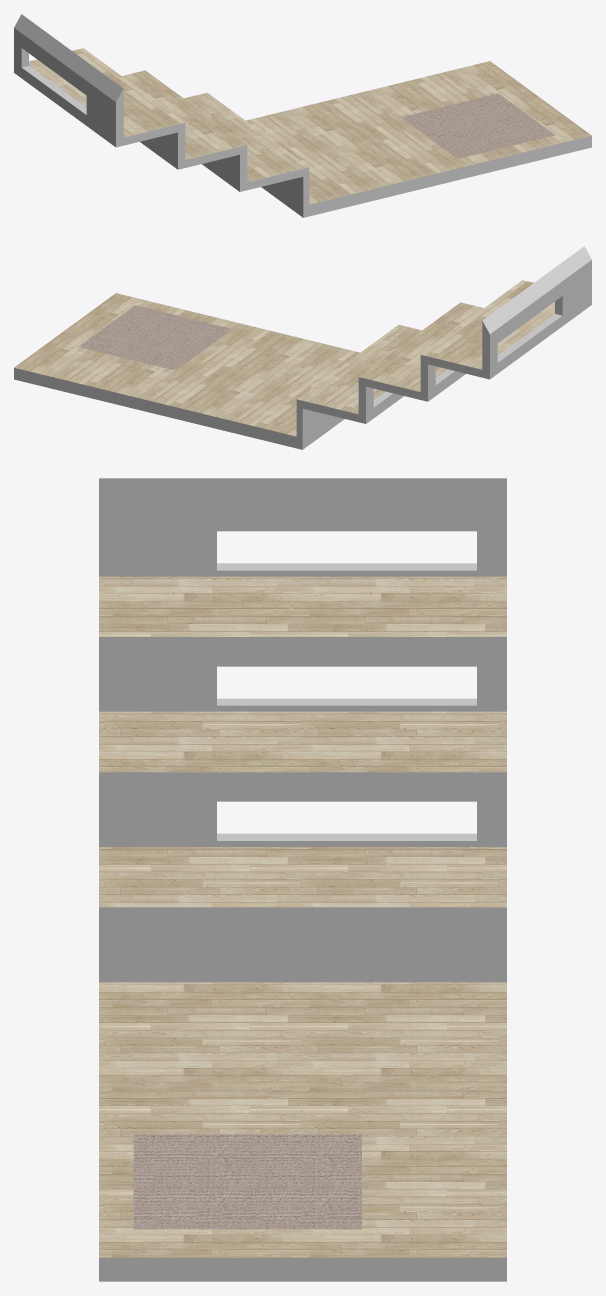
The model's file is BUnderfloor.gltf.
3 views of the same model, one above another, from view 1: azimuth 30°, elevation 25°; view 2: azimuth 150°, elevation 25°; view 3: azimuth 270°, elevation 25° (orthographic). The views are drawn at different scales.
Parts seen in each view (by area): view 1: Underplane; view 2: Underplane; view 3: Underplane.
Boxes of the visible parts, x1,y1,x2,y2 form: Underplane: (14,14,591,217); Underplane: (14,246,591,449); Underplane: (99,478,506,1281).
Bounding box in the file's own units: 127 × 44.07 × 47.1.
Materials: 3 (2 with a texture image).
